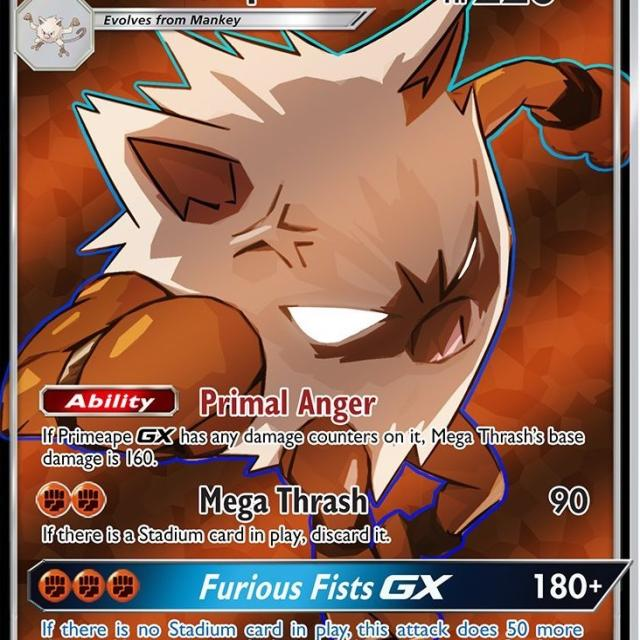Primeape: (102, 32, 514, 427)
